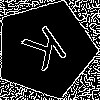K: (20, 24, 75, 80)
